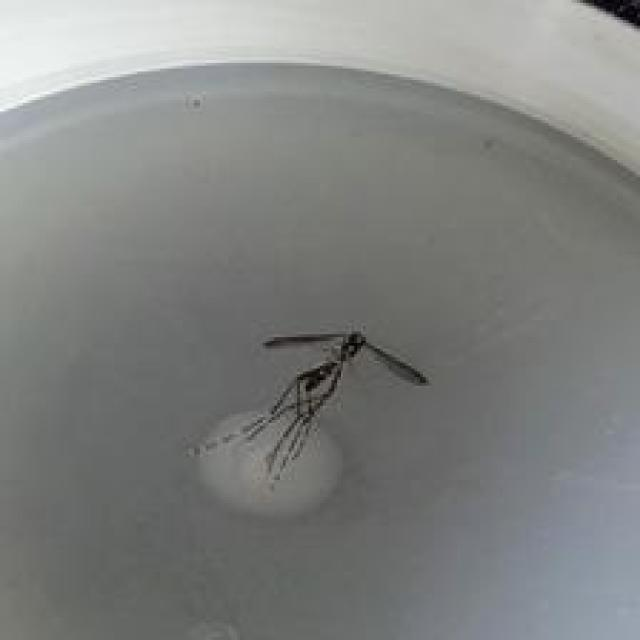Aedes albopictus: (187, 326, 430, 488)
